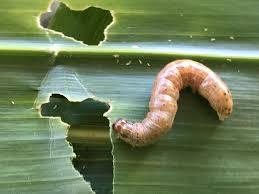fallarmy_worm: (112, 56, 236, 153)
